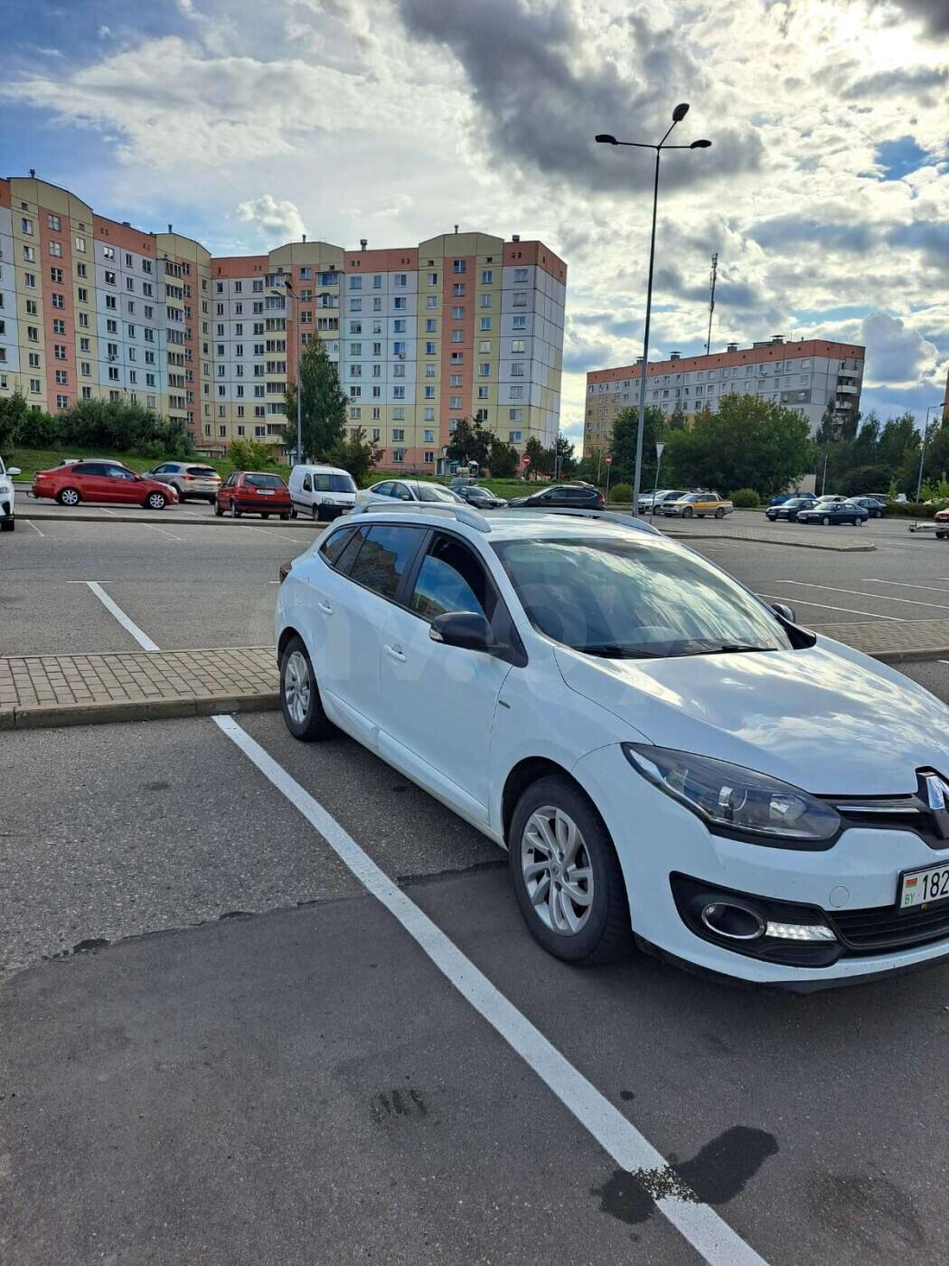Megane_2014-2016: (271, 514, 949, 1002)
